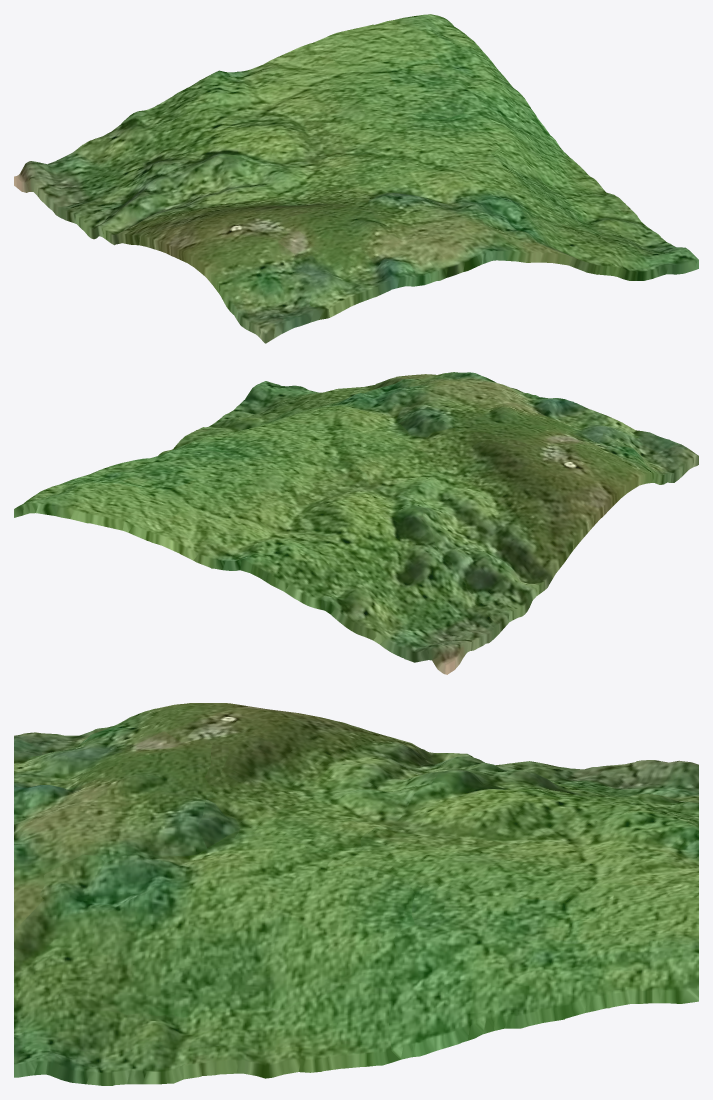
Rendered from z20-167557-405173-h0-yup-uvflip-v3-world.glb.
3 views of the same model, one above another, from view 1: azimuth 30°, elevation 25°; view 2: azimuth 150°, elevation 25°; view 3: azimuth 270°, elevation 25° (orthographic). The views are drawn at different scales.
Size of the model in its own units: 30.16 by 5.84 by 30.32.
1 material, 1 textured.
